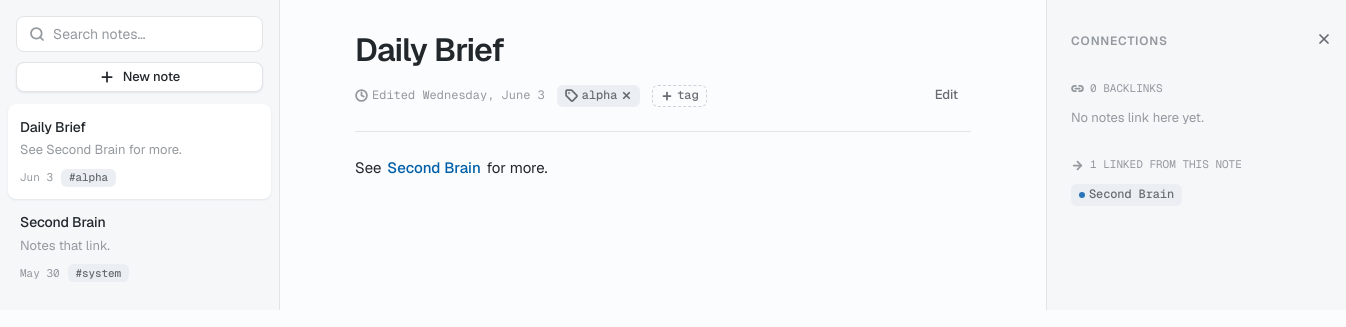
Brain — tags › adds a tag via the + tag control
The width and height of the screenshot is (1346, 327).
Expected: the button "alpha" is shown, [557,85,640,107]
Click the button "tag" at {"x": 680, "y": 96}, box [652,85,708,107]
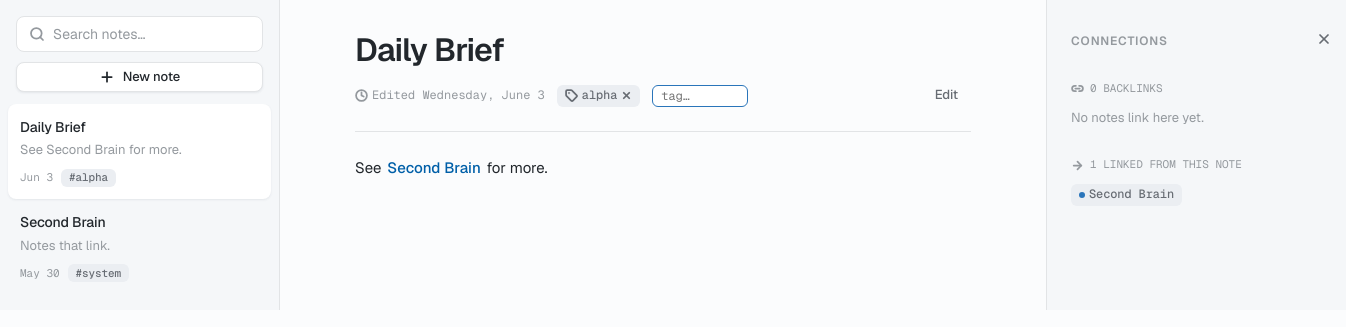
Type "beta" into the field with placeholder "tag…" at {"x": 700, "y": 96}, box [652,85,748,107]
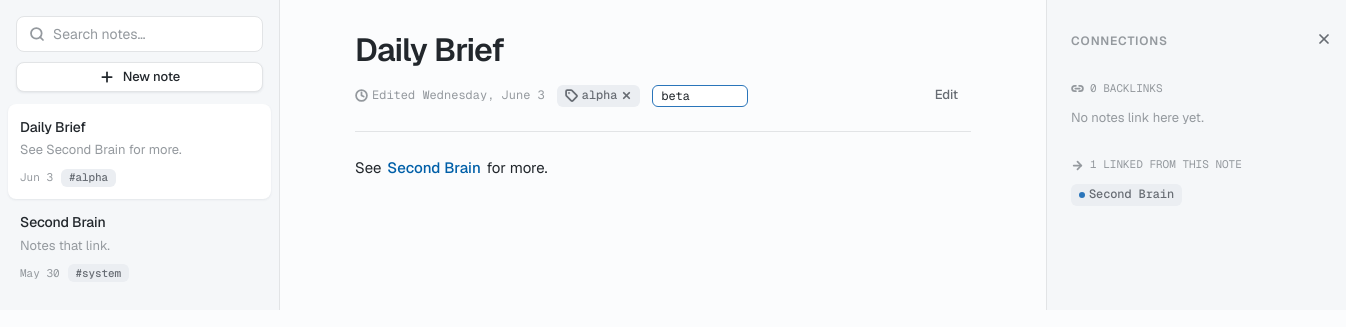
Press Enter
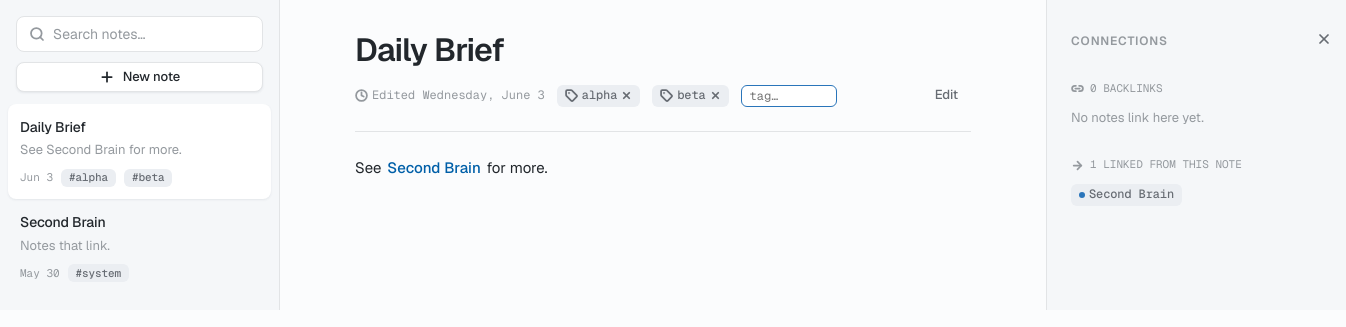
Result: the button "beta" is shown at [652,85,728,107]
